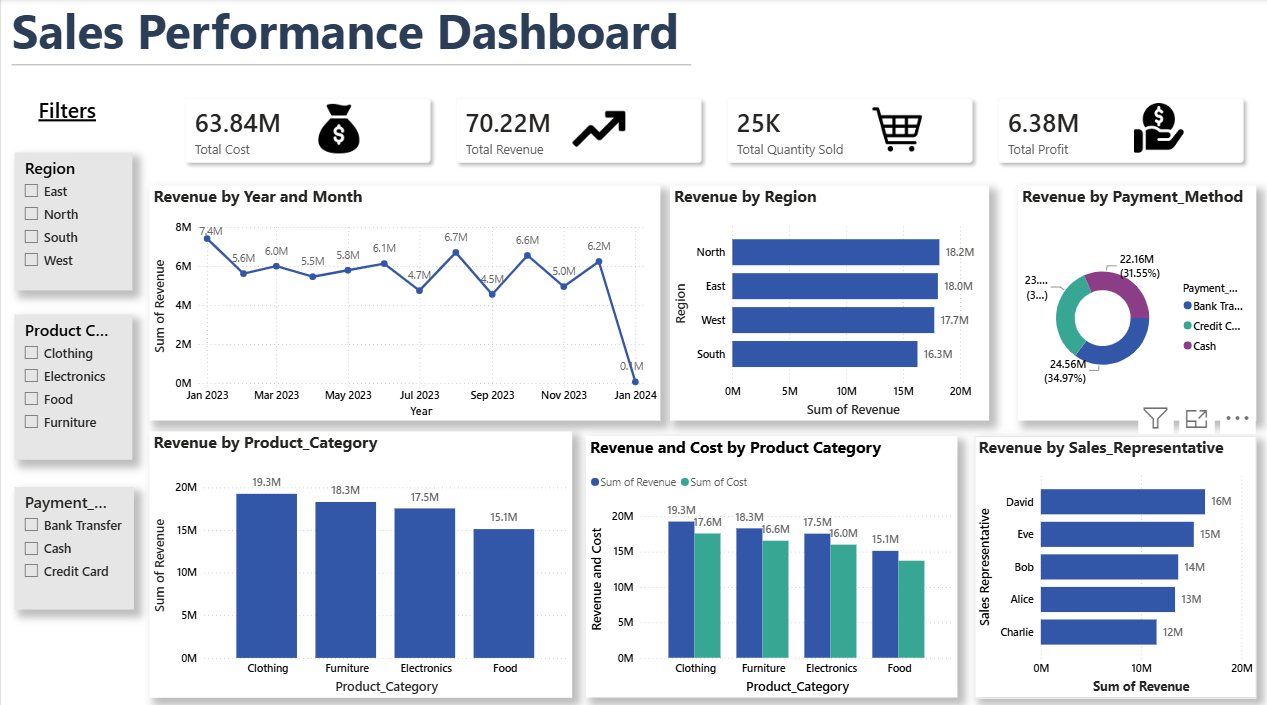

This screenshot's page, from the dashboard's own definition file:
{"tool":"powerbi","page":{"name":"Page 1","canvas":[1600,900],"ordinal":0},"visuals":[{"type":"cardVisual","fields":{"Data":["cleaned_sales_data.Total Cost","cleaned_sales_data.Total Revenue","cleaned_sales_data.Total Quantity Sold","cleaned_sales_data.Total Profit"]},"box":[203.2,95.7,1396.9,140.7],"z":0},{"type":"lineChart","title":"Revenue by Year and Month","fields":{"Y":["Sum(cleaned_sales_data.Revenue)"],"Category":["cleaned_sales_data.Sale_Date.Variation.Date Hierarchy.Year","cleaned_sales_data.Sale_Date.Variation.Date Hierarchy.Month"]},"box":[187.6,236.4,644.7,297],"z":1000},{"type":"clusteredColumnChart","title":"Revenue by Product_Category","fields":{"Category":["cleaned_sales_data.Product_Category"],"Y":["Sum(cleaned_sales_data.Revenue)"]},"box":[187.6,547,533.4,336],"z":2000},{"type":"donutChart","title":"Revenue by Payment_Method","fields":{"Category":["cleaned_sales_data.Payment_Method"],"Y":["Sum(cleaned_sales_data.Revenue)"]},"box":[1283.6,236.4,300.9,297],"z":3000},{"type":"barChart","title":"Revenue by Sales_Representative","fields":{"Category":["cleaned_sales_data.Sales_Rep"],"Y":["Sum(cleaned_sales_data.Revenue)"]},"box":[1228.9,552.9,355.6,330.2],"z":4000},{"type":"barChart","title":"Revenue by Region","fields":{"Category":["cleaned_sales_data.Region"],"Y":["Sum(cleaned_sales_data.Revenue)"]},"box":[844,236.4,402.5,297],"z":5000},{"type":"clusteredColumnChart","title":"Revenue and Cost by Product  Category","fields":{"Y":["Sum(cleaned_sales_data.Revenue)","Sum(cleaned_sales_data.Cost)"],"Category":["cleaned_sales_data.Product_Category"]},"box":[738.5,552.9,468.9,330.2],"z":6000},{"type":"slicer","fields":{"Values":["cleaned_sales_data.Product_Category"]},"box":[17.6,398.6,148.5,183.7],"z":6001},{"type":"slicer","fields":{"Values":["cleaned_sales_data.Region"]},"box":[17.6,195.4,148.5,173.9],"z":6002},{"type":"slicer","fields":{"Values":["cleaned_sales_data.Payment_Method"]},"box":[17.6,617.4,150.4,154.3],"z":6003},{"type":"shape","title":"Sales Performance Dashboard","box":[13.7,0,857.7,95.7],"z":6004},{"type":"shape","title":"Filters","box":[46.9,123.1,84,43],"z":6005},{"type":"image","box":[382.9,132.9,87.9,64.5],"z":6006},{"type":"image","box":[720.9,121.1,66.4,87.9],"z":6007},{"type":"image","box":[1074.6,132.9,111.4,66.4],"z":6008},{"type":"image","box":[1406.7,132.9,109.4,62.5],"z":6009}]}

Visuals, with their boxes in screenshot pixels (x1, y1, x2, y2), scaled from the page's 1600x900 canvas onto the 1267x705 screenshot:
cardVisual - cleaned_sales_data.Total Cost x cleaned_sales_data.Total Revenue: 161 75 1266 185
"Revenue by Year and Month" lineChart: 149 185 659 418
"Revenue by Product_Category" clusteredColumnChart: 149 428 571 692
"Revenue by Payment_Method" donutChart: 1016 185 1255 418
"Revenue by Sales_Representative" barChart: 973 433 1255 692
"Revenue by Region" barChart: 668 185 987 418
"Revenue and Cost by Product  Category" clusteredColumnChart: 585 433 956 692
slicer - cleaned_sales_data.Product_Category: 14 312 132 456
slicer - cleaned_sales_data.Region: 14 153 132 289
slicer - cleaned_sales_data.Payment_Method: 14 484 133 604
"Sales Performance Dashboard" shape: 11 0 690 75
"Filters" shape: 37 96 104 130
image: 303 104 373 155
image: 571 95 623 164
image: 851 104 939 156
image: 1114 104 1201 153
